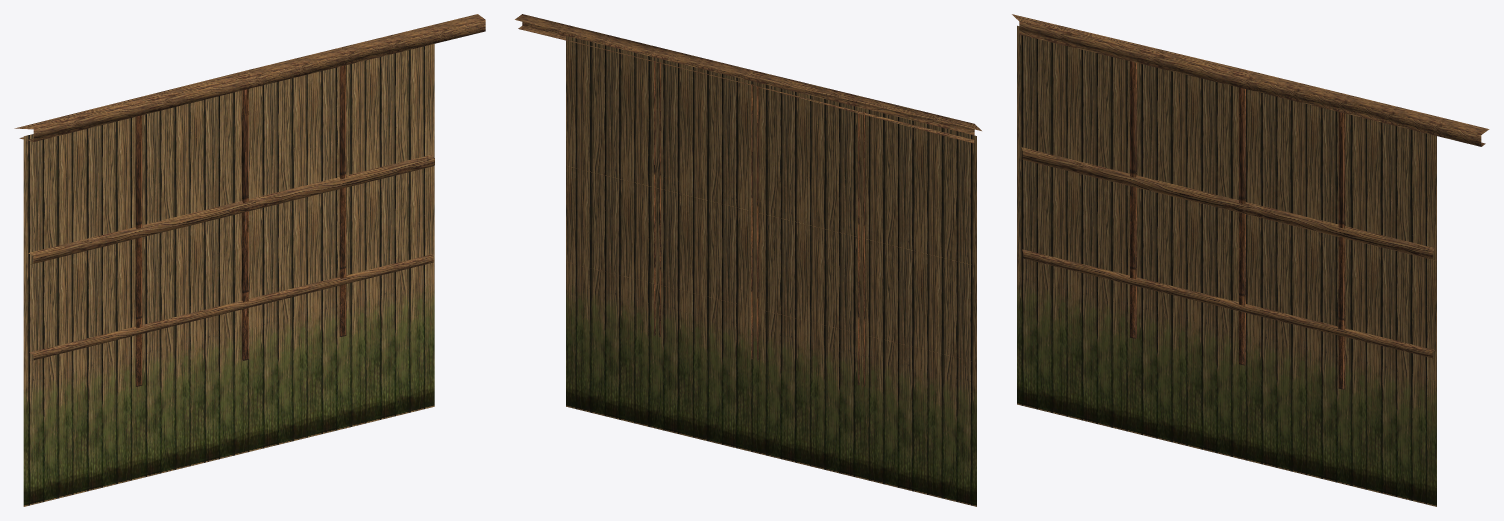
The model's file is LAKETOWN_WAREHOUSE2_PS_WH2_PLATROOM88447__GX.fbx.
The picture shows the model from 3 angles, left to right: view 1: azimuth 30°, elevation 25°; view 2: azimuth 150°, elevation 25°; view 3: azimuth 330°, elevation 25°; orthographic projection. The views are drawn at different scales.
Visible parts, largest first — view 1: LAKETOWN_WAREHOUSE2_PS_WH2_PLATROOM88447__GX; view 2: LAKETOWN_WAREHOUSE2_PS_WH2_PLATROOM88447__GX; view 3: LAKETOWN_WAREHOUSE2_PS_WH2_PLATROOM88447__GX.
Boxes of the visible parts, bbox=[...] form: LAKETOWN_WAREHOUSE2_PS_WH2_PLATROOM88447__GX: bbox=[14, 14, 485, 506]; LAKETOWN_WAREHOUSE2_PS_WH2_PLATROOM88447__GX: bbox=[515, 14, 981, 506]; LAKETOWN_WAREHOUSE2_PS_WH2_PLATROOM88447__GX: bbox=[1012, 14, 1489, 506].
Size of the model in its own units: 197027 by 153127 by 5804.
Materials: 5 (5 with a texture image).
